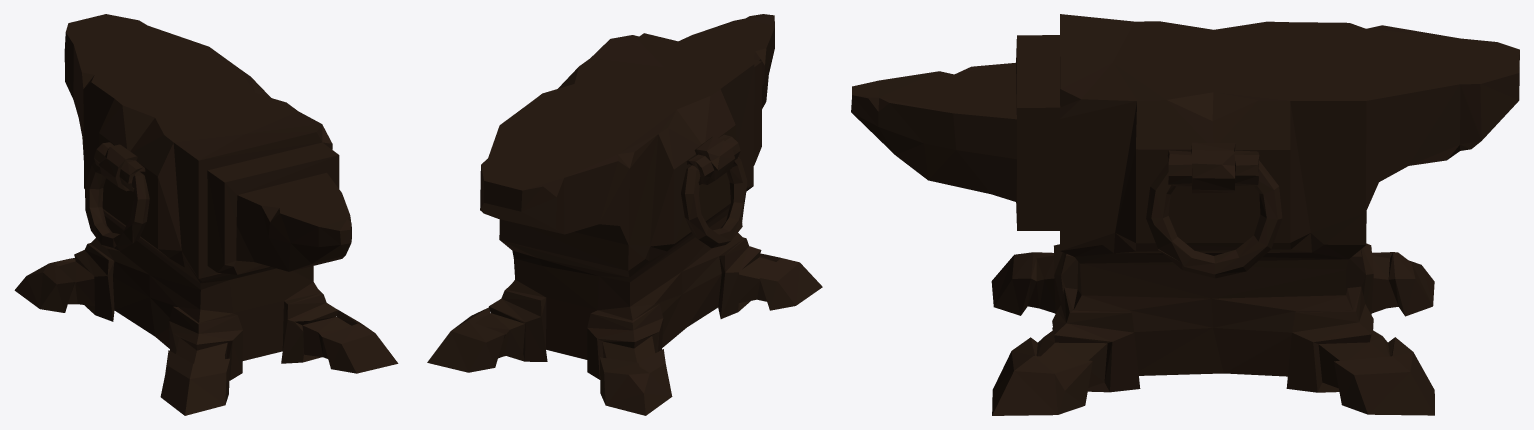
File: SFFA_Anvil.fbx
3 renders of one model, left to right at view 1: azimuth 30°, elevation 25°; view 2: azimuth 150°, elevation 25°; view 3: azimuth 270°, elevation 25°, orthographic. The views are drawn at different scales.
Parts seen in each view (by area): view 1: SFFA_Anvil; view 2: SFFA_Anvil; view 3: SFFA_Anvil.
Part boxes in pixels (x1,y1,x2,y2): SFFA_Anvil: [14, 14, 398, 415]; SFFA_Anvil: [427, 14, 822, 415]; SFFA_Anvil: [851, 14, 1519, 415].
Bounding box in the file's own units: 49.76 × 50.3 × 104.
